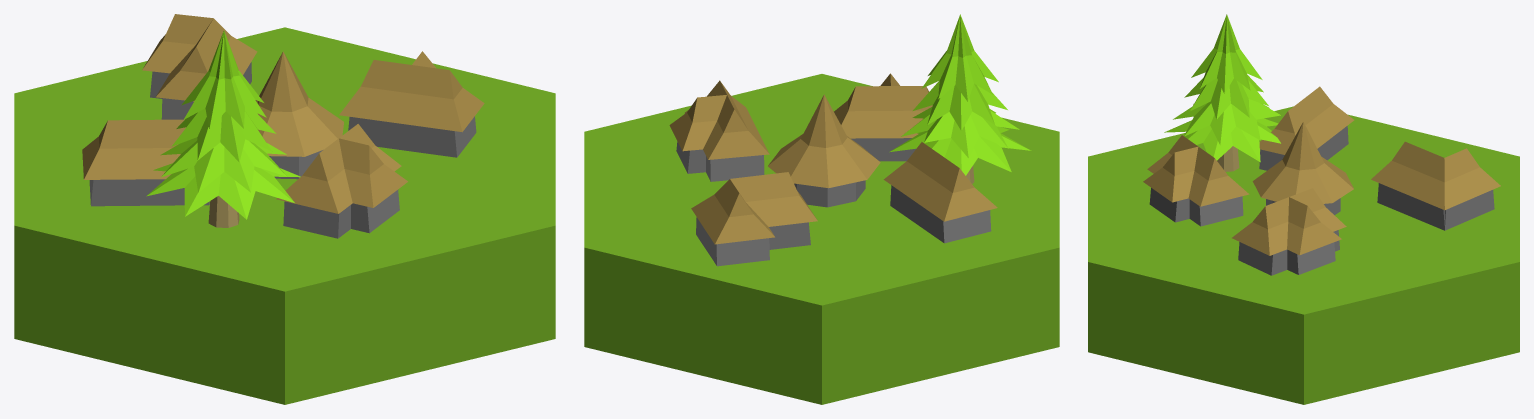
Rendered from Casas_Bosque_Pinos_7.fbx.
The picture shows the model from 3 angles, left to right: view 1: azimuth 30°, elevation 25°; view 2: azimuth 150°, elevation 25°; view 3: azimuth 270°, elevation 25°; orthographic projection. The views are drawn at different scales.
Parts seen in each view (by area): view 1: Casas_Bosque_Pinos_7; view 2: Casas_Bosque_Pinos_7; view 3: Casas_Bosque_Pinos_7.
Part boxes in pixels (x1,y1,x2,y2): Casas_Bosque_Pinos_7: [14, 14, 555, 404]; Casas_Bosque_Pinos_7: [584, 14, 1059, 404]; Casas_Bosque_Pinos_7: [1088, 14, 1519, 404].
Bounding box in the file's own units: 200 × 108 × 173.
